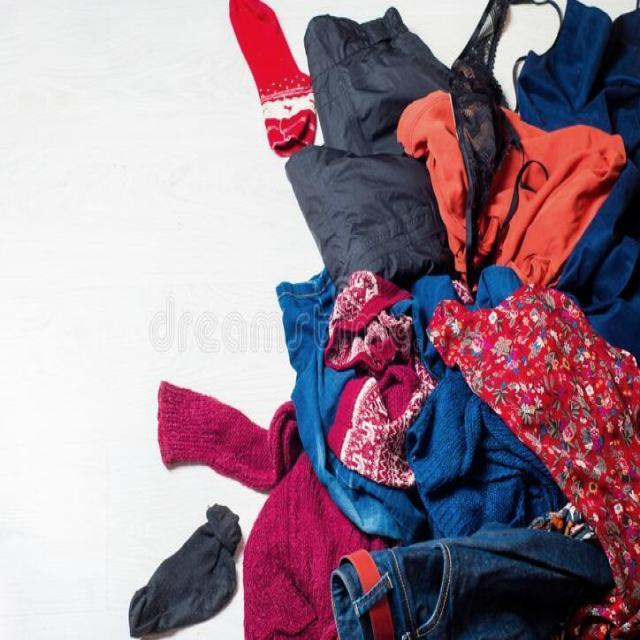clothes: (127, 502, 256, 640)
